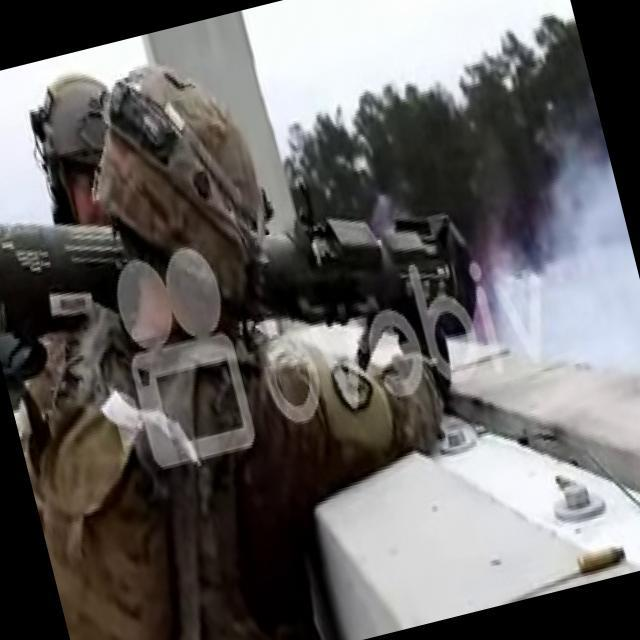rocket: (0, 109, 484, 422)
